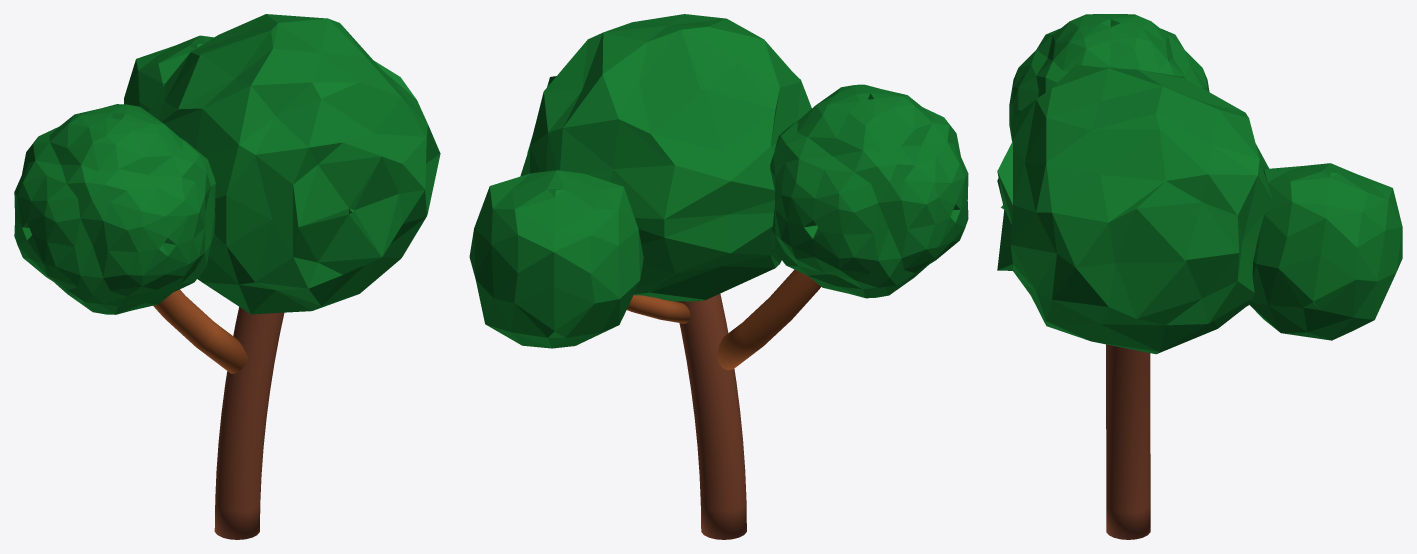
Rendered from baum2_II.dae.
The picture shows the model from 3 angles, left to right: view 1: azimuth 30°, elevation 25°; view 2: azimuth 150°, elevation 25°; view 3: azimuth 270°, elevation 25°; orthographic projection. The views are drawn at different scales.
Parts seen in each view (by area): view 1: Geosph_re003, Geosph_re001, Zylinder001, Zylinder002, Geosph_re002; view 2: Geosph_re003, Geosph_re001, Geosph_re002, Zylinder001, Zylinder002, Zylinder003; view 3: Geosph_re003, Geosph_re002, Geosph_re001, Zylinder001.
Boxes of the visible parts, x1=… form: Geosph_re003: x1=148, y1=14, x2=440, y2=314; Geosph_re001: x1=14, y1=104, x2=215, y2=314; Zylinder001: x1=214, y1=307, x2=284, y2=539; Zylinder002: x1=153, y1=289, x2=248, y2=373; Geosph_re002: x1=124, y1=35, x2=213, y2=112; Geosph_re003: x1=520, y1=14, x2=811, y2=301; Geosph_re001: x1=770, y1=84, x2=968, y2=298; Geosph_re002: x1=469, y1=170, x2=643, y2=348; Zylinder001: x1=675, y1=294, x2=746, y2=539; Zylinder002: x1=717, y1=269, x2=820, y2=370; Zylinder003: x1=627, y1=295, x2=690, y2=323; Geosph_re003: x1=997, y1=64, x2=1272, y2=354; Geosph_re002: x1=1246, y1=163, x2=1402, y2=340; Geosph_re001: x1=1009, y1=14, x2=1209, y2=141; Zylinder001: x1=1106, y1=344, x2=1150, y2=539.
Size of the model in its own units: 1.87 by 1.69 by 2.2.
